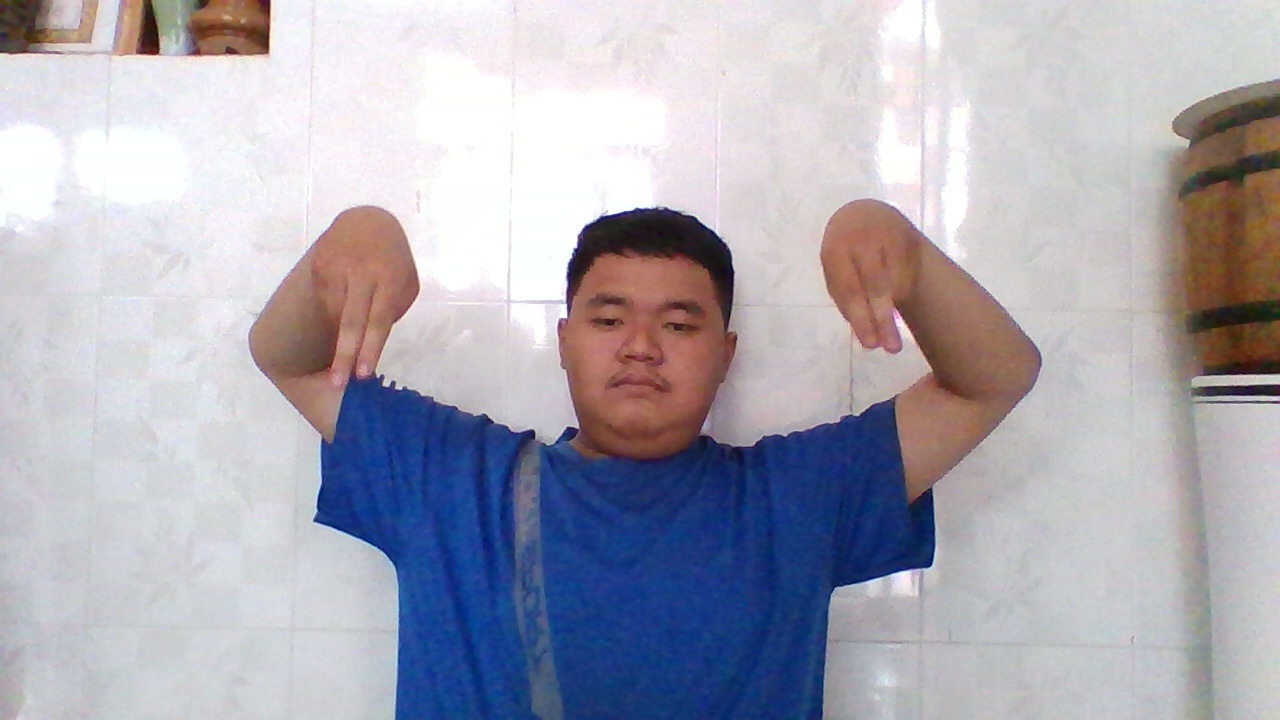N: (298, 195, 427, 399), (811, 188, 933, 361)
